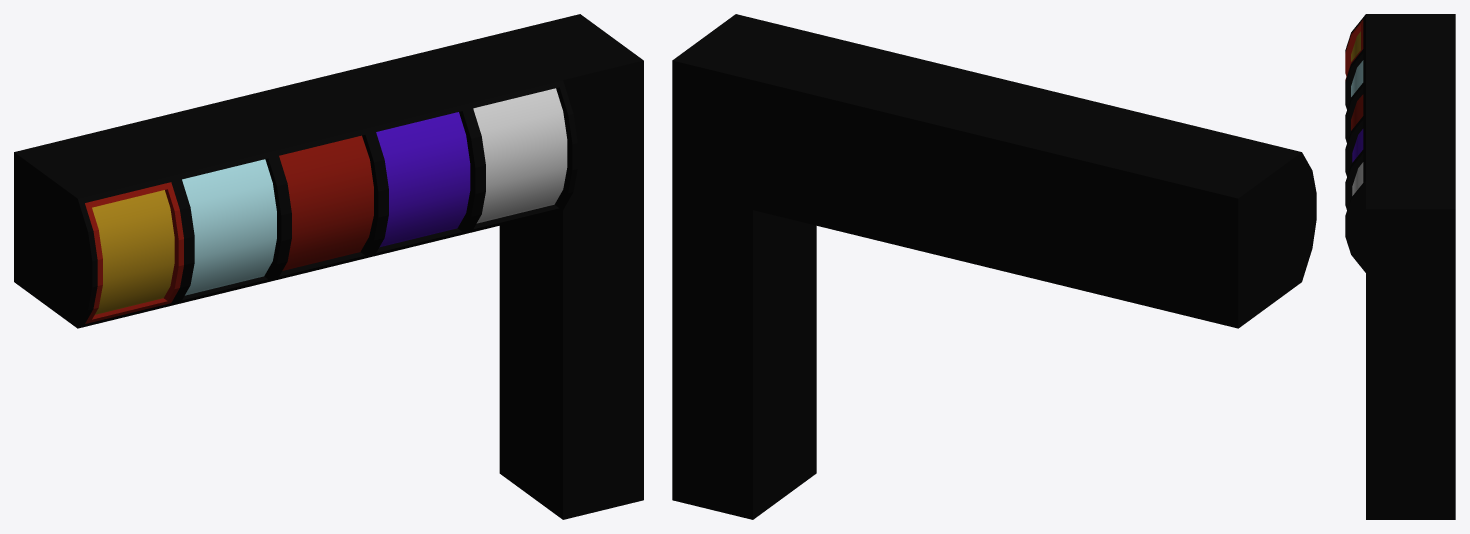
File: Letrero.fbx
3 renders of one model, left to right at view 1: azimuth 30°, elevation 25°; view 2: azimuth 150°, elevation 25°; view 3: azimuth 270°, elevation 25°, orthographic. The views are drawn at different scales.
Parts seen in each view (by area): view 1: Box267; view 2: Box267; view 3: Box267.
Boxes of the visible parts, x1=… form: Box267: x1=14, y1=14, x2=643, y2=519; Box267: x1=672, y1=14, x2=1316, y2=519; Box267: x1=1345, y1=14, x2=1455, y2=519.
Bounding box in the file's own units: 939 × 697 × 225.
